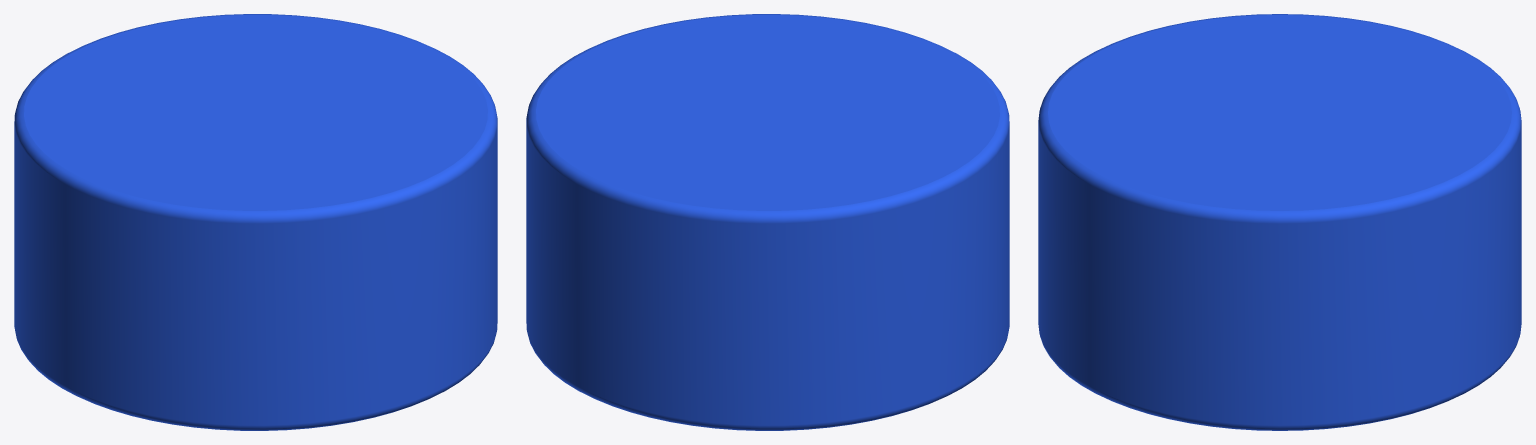
Rendered from tsumiki_blue_normal.fbx.
3 renders of one model, left to right at view 1: azimuth 30°, elevation 25°; view 2: azimuth 150°, elevation 25°; view 3: azimuth 270°, elevation 25°, orthographic.
Visible parts, largest first — view 1: Tumiki_Blue_Plain; view 2: Tumiki_Blue_Plain; view 3: Tumiki_Blue_Plain.
Part boxes in pixels (x1=…): Tumiki_Blue_Plain: x1=14, y1=14, x2=497, y2=430; Tumiki_Blue_Plain: x1=526, y1=14, x2=1009, y2=430; Tumiki_Blue_Plain: x1=1038, y1=14, x2=1521, y2=430.
Bounding box in the file's own units: 100 × 50 × 100.
